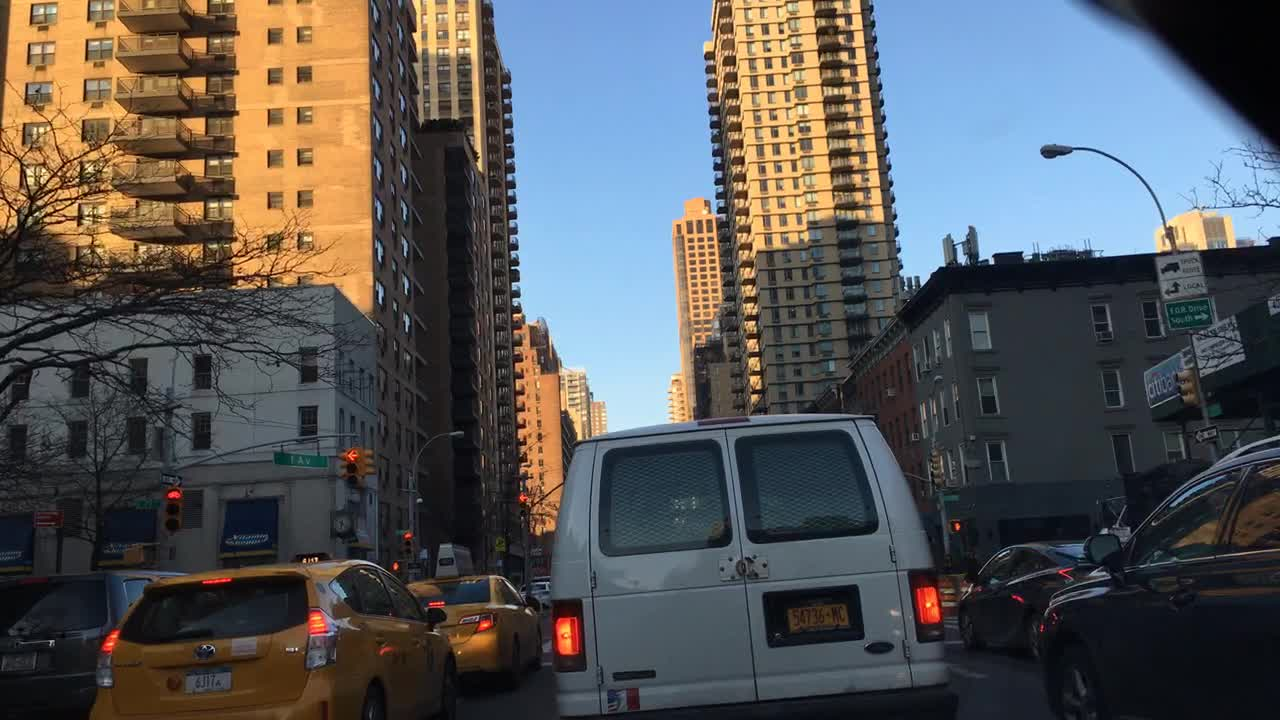car: (550, 413, 960, 718), (1035, 430, 1278, 718), (93, 558, 460, 718), (0, 567, 190, 718), (949, 531, 1110, 661), (404, 544, 542, 692), (516, 575, 551, 606)
traffic light: (1172, 369, 1200, 409), (163, 489, 182, 532), (344, 447, 361, 485), (117, 546, 143, 566), (366, 446, 375, 477), (928, 450, 942, 466), (932, 466, 944, 484), (947, 521, 963, 531), (519, 494, 526, 516), (390, 561, 400, 573), (403, 531, 413, 541)
traffic sign: (1154, 249, 1211, 295), (1165, 296, 1215, 331), (270, 450, 330, 470), (31, 509, 63, 529), (1191, 426, 1217, 442), (1202, 401, 1224, 419), (491, 534, 506, 552), (132, 500, 159, 509), (162, 474, 183, 485), (406, 561, 420, 576), (940, 492, 960, 502)
